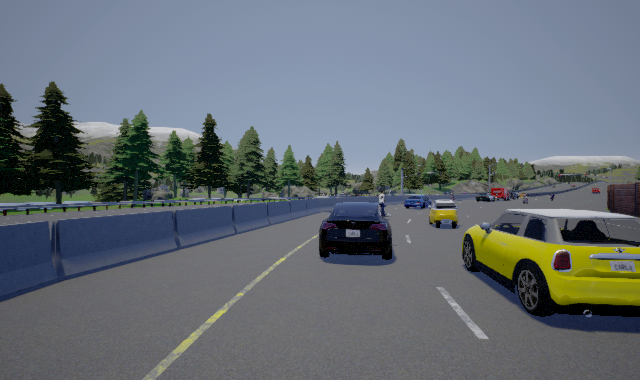bike: (377, 191, 391, 218)
vehicle: (462, 209, 640, 317), (319, 202, 392, 260), (428, 198, 459, 230), (475, 188, 519, 202), (403, 195, 431, 210)
